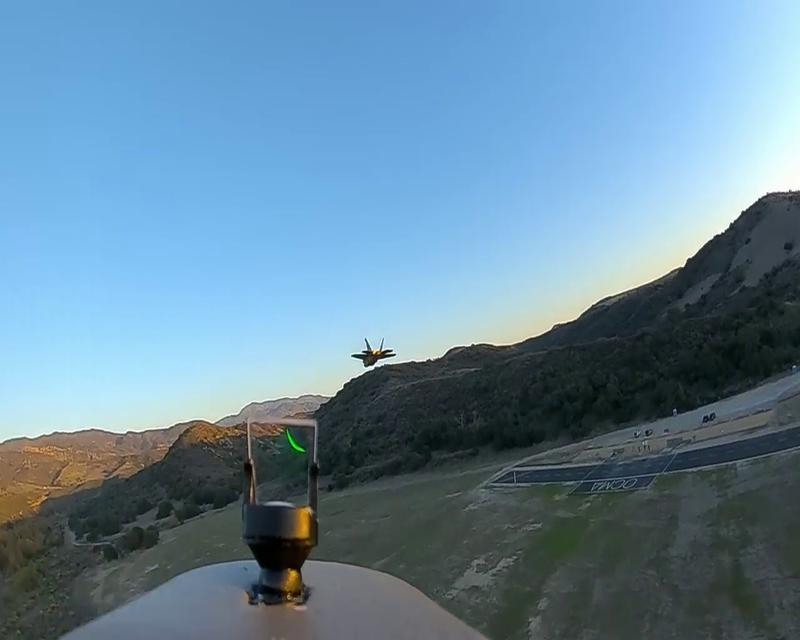UAV: (347, 337, 397, 369)
